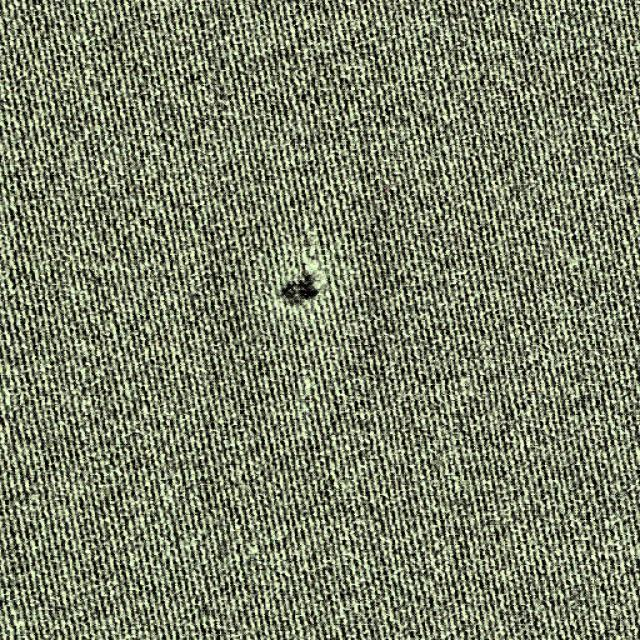Hole: (248, 232, 359, 336)
